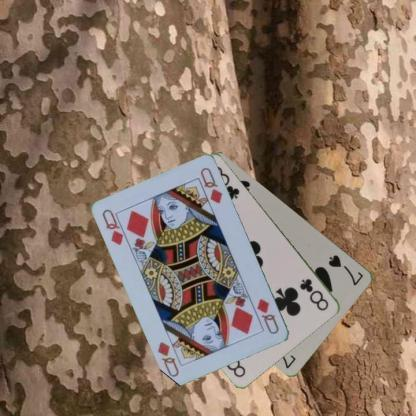7s: (326, 252, 365, 287)
8c: (297, 276, 330, 312)
Qd: (100, 206, 131, 247), (254, 296, 281, 336)
